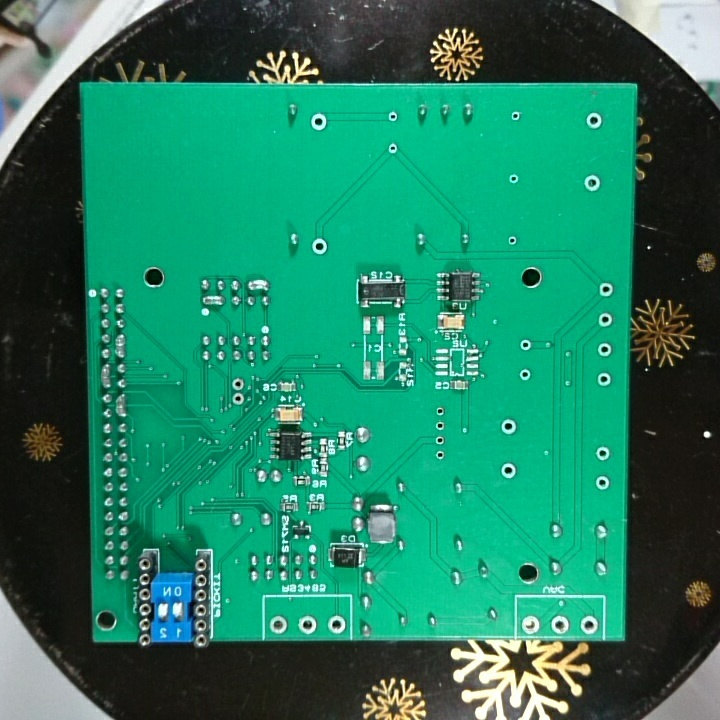F: (519, 612, 542, 635), (584, 109, 606, 132), (578, 612, 599, 636), (549, 613, 571, 635), (268, 613, 289, 636), (309, 236, 330, 258), (308, 112, 330, 133), (582, 172, 602, 194), (592, 443, 614, 463), (327, 613, 347, 635), (499, 417, 519, 438), (297, 614, 317, 635), (597, 279, 616, 300), (594, 473, 612, 494), (499, 460, 517, 480), (596, 311, 615, 329), (596, 340, 614, 359), (595, 369, 612, 389), (505, 170, 521, 187), (517, 366, 534, 382), (431, 432, 447, 449), (230, 391, 246, 407), (384, 109, 401, 124), (433, 447, 447, 465), (231, 376, 246, 392), (508, 107, 522, 124), (505, 232, 519, 249), (518, 338, 532, 354), (385, 141, 399, 156), (433, 405, 446, 419), (434, 419, 445, 432)
P: (97, 360, 114, 392), (245, 275, 273, 294), (113, 331, 128, 361), (114, 391, 129, 420), (200, 293, 227, 309)
